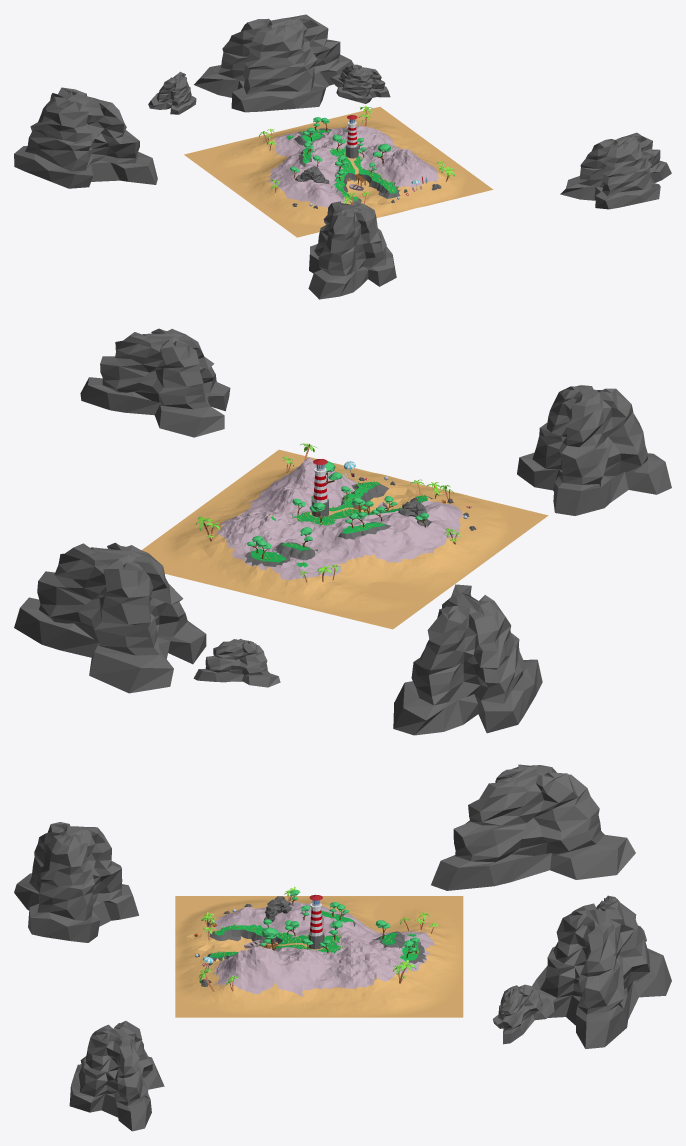
Rendered from island.glb.
The picture shows the model from 3 angles, top to bottom: view 1: azimuth 30°, elevation 25°; view 2: azimuth 150°, elevation 25°; view 3: azimuth 270°, elevation 25°; orthographic projection. The views are drawn at different scales.
Visible parts, largest first — view 1: Landscape, Plane.003, Plane.004, Plane.002, Plane.005, Plane.006, Plane.007, Cylinder; view 2: Landscape, Plane.003, Plane.004, Plane.002, Plane.005, Plane.007, Cylinder; view 3: Landscape, Plane.004, Plane.003, Plane.002, Plane.005, Plane.006, Cylinder.
Boxes of the visible parts, box(x1,y1,x2,y2) form: Landscape: box(184, 107, 493, 237); Plane.003: box(194, 14, 353, 112); Plane.004: box(14, 87, 157, 188); Plane.002: box(308, 201, 396, 299); Plane.005: box(560, 132, 671, 209); Plane.006: box(330, 64, 390, 103); Plane.007: box(148, 71, 196, 114); Cylinder: box(346, 115, 358, 158); Landscape: box(142, 449, 548, 629); Plane.003: box(14, 542, 206, 693); Plane.004: box(393, 584, 542, 735); Plane.002: box(517, 385, 671, 515); Plane.005: box(80, 328, 230, 437); Plane.007: box(193, 638, 280, 687); Cylinder: box(311, 459, 328, 517); Landscape: box(175, 896, 463, 1017); Plane.004: box(431, 764, 635, 890); Plane.003: box(532, 901, 671, 1048); Plane.002: box(14, 822, 138, 942); Plane.005: box(69, 1021, 164, 1131); Plane.006: box(493, 984, 554, 1044); Cylinder: box(308, 894, 324, 949).
Bounding box in the file's own units: 12.42 × 1.75 × 11.42.
